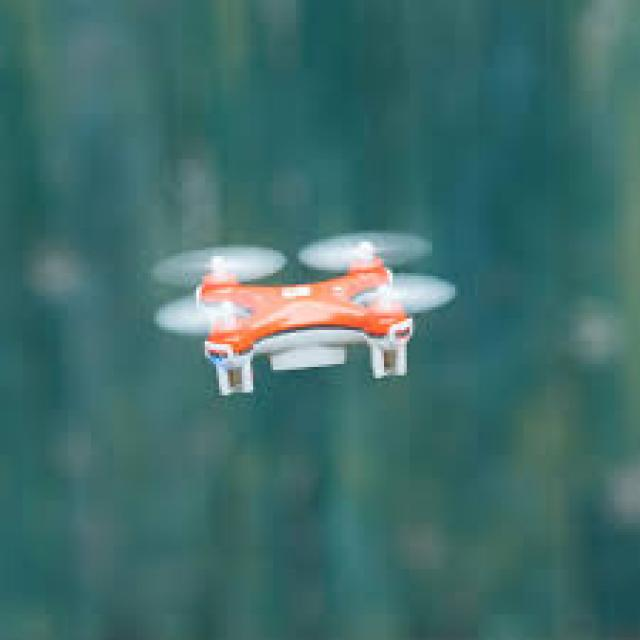drones: (144, 222, 462, 394)
